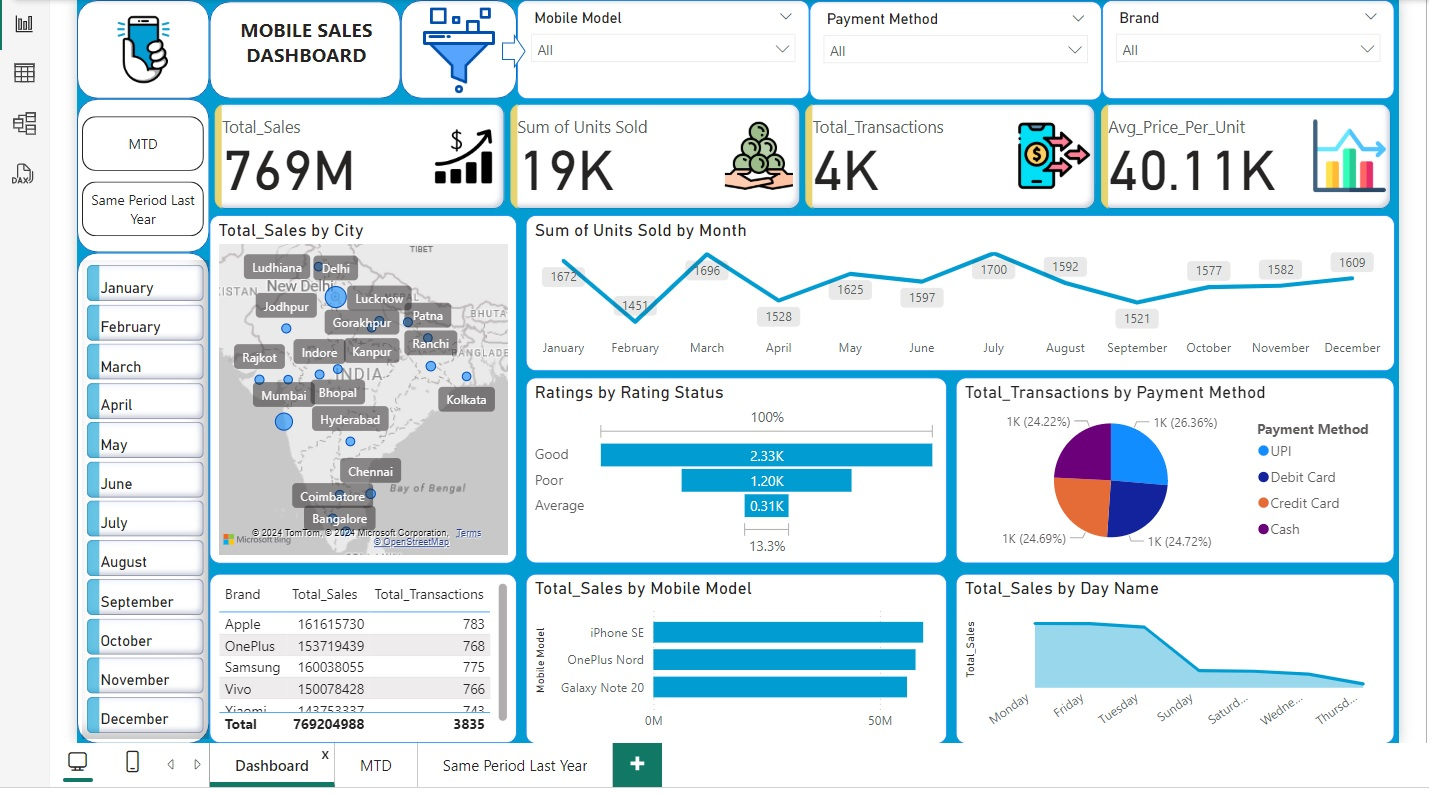

Layout of this report page (visuals, bound fields, positions):
{"tool":"powerbi","page":{"name":"Dashboard","canvas":[1280,720],"ordinal":0},"visuals":[{"type":"shape","box":[0,0,128.3,95.6],"z":0},{"type":"image","box":[0,0,128.3,95.6],"z":1000},{"type":"shape","box":[0,95.6,128.3,148.9],"z":2000},{"type":"shape","box":[0,244.5,128.3,475.7],"z":3000},{"type":"advancedSlicerVisual","fields":{"Values":["Custom_Calendar.Date.Variation.Date Hierarchy.Month"]},"box":[4.8,251.8,123.5,463.6],"z":4000},{"type":"cardVisual","fields":{"Data":["mobile_sales_data.Total_Sales","Sum(mobile_sales_data.Units Sold)","mobile_sales_data.Total_Transactions","mobile_sales_data.Avg_Price_Per_Unit"]},"box":[128.3,95.6,1151.2,112.6],"z":5000},{"type":"slicer","fields":{"Values":["mobile_sales_data.Mobile Model"]},"box":[426.1,0,283.3,95.6],"z":6000},{"type":"slicer","fields":{"Values":["mobile_sales_data.Payment Method"]},"box":[709.4,1.2,283.3,95.6],"z":7000},{"type":"slicer","fields":{"Values":["mobile_sales_data.Brand"]},"box":[992.6,0,283.3,95.6],"z":8000},{"type":"shape","box":[313.5,0,112.6,95.6],"z":9000},{"type":"image","box":[313.5,1.2,112.6,95.6],"z":10000},{"type":"shape","box":[128.3,1.2,185.2,94.4],"z":11000},{"type":"shape","box":[411.6,32.7,23,33.9],"z":12000},{"type":"textbox","box":[139.2,10.9,165.8,75.1],"z":13000},{"type":"map","fields":{"Category":["mobile_sales_data.City"],"Size":["mobile_sales_data.Total_Sales"]},"box":[128.3,208.2,297.8,337.7],"z":14000},{"type":"lineChart","fields":{"Category":["Custom_Calendar.Date.Variation.Date Hierarchy.Month"],"Y":["Sum(mobile_sales_data.Units Sold)"]},"box":[434.6,208.2,841.3,151.3],"z":15000},{"type":"funnel","title":"Ratings by Rating Status","fields":{"Y":["CountNonNull(mobile_sales_data.Customer Ratings)"],"Category":["mobile_sales_data.Rating Status"]},"box":[434.6,365.6,407.9,180.4],"z":16000},{"type":"pieChart","fields":{"Y":["mobile_sales_data.Total_Transactions"],"Category":["mobile_sales_data.Payment Method"]},"box":[851,365.6,424.9,180.4],"z":17000},{"type":"barChart","fields":{"Y":["mobile_sales_data.Total_Sales"],"Category":["mobile_sales_data.Mobile Model"]},"box":[434.6,555.6,407.9,164.6],"z":18000},{"type":"areaChart","fields":{"Category":["Custom_Calendar.Day Name"],"Y":["mobile_sales_data.Total_Sales"]},"box":[851,555.6,424.9,164.6],"z":19000},{"type":"tableEx","fields":{"Values":["mobile_sales_data.Brand","mobile_sales_data.Total_Sales","mobile_sales_data.Total_Transactions"]},"box":[128.3,555.6,297.8,164],"z":20000},{"type":"pageNavigator","box":[4.8,112.6,118.6,117.4],"z":20001}]}

Visuals, with their boxes on the page's 1280x720 design canvas (x1, y1, x2, y2). These are canvas units, not pixel positions in the 1432x794 screenshot, which may show the page scaled, cropped or inside an application window:
shape: [0, 0, 128, 96]
image: [0, 0, 128, 96]
shape: [0, 96, 128, 244]
shape: [0, 244, 128, 720]
advancedSlicerVisual - Custom_Calendar.Date.Variation.Date Hierarchy.Month: [5, 252, 128, 715]
cardVisual - mobile_sales_data.Total_Sales x Sum(mobile_sales_data.Units Sold): [128, 96, 1280, 208]
slicer - mobile_sales_data.Mobile Model: [426, 0, 709, 96]
slicer - mobile_sales_data.Payment Method: [709, 1, 993, 97]
slicer - mobile_sales_data.Brand: [993, 0, 1276, 96]
shape: [314, 0, 426, 96]
image: [314, 1, 426, 97]
shape: [128, 1, 314, 96]
shape: [412, 33, 435, 67]
textbox: [139, 11, 305, 86]
map - mobile_sales_data.City x mobile_sales_data.Total_Sales: [128, 208, 426, 546]
lineChart - Custom_Calendar.Date.Variation.Date Hierarchy.Month x Sum(mobile_sales_data.Units Sold): [435, 208, 1276, 360]
"Ratings by Rating Status" funnel: [435, 366, 842, 546]
pieChart - mobile_sales_data.Total_Transactions x mobile_sales_data.Payment Method: [851, 366, 1276, 546]
barChart - mobile_sales_data.Total_Sales x mobile_sales_data.Mobile Model: [435, 556, 842, 720]
areaChart - Custom_Calendar.Day Name x mobile_sales_data.Total_Sales: [851, 556, 1276, 720]
tableEx - mobile_sales_data.Brand x mobile_sales_data.Total_Sales: [128, 556, 426, 720]
pageNavigator: [5, 113, 123, 230]
